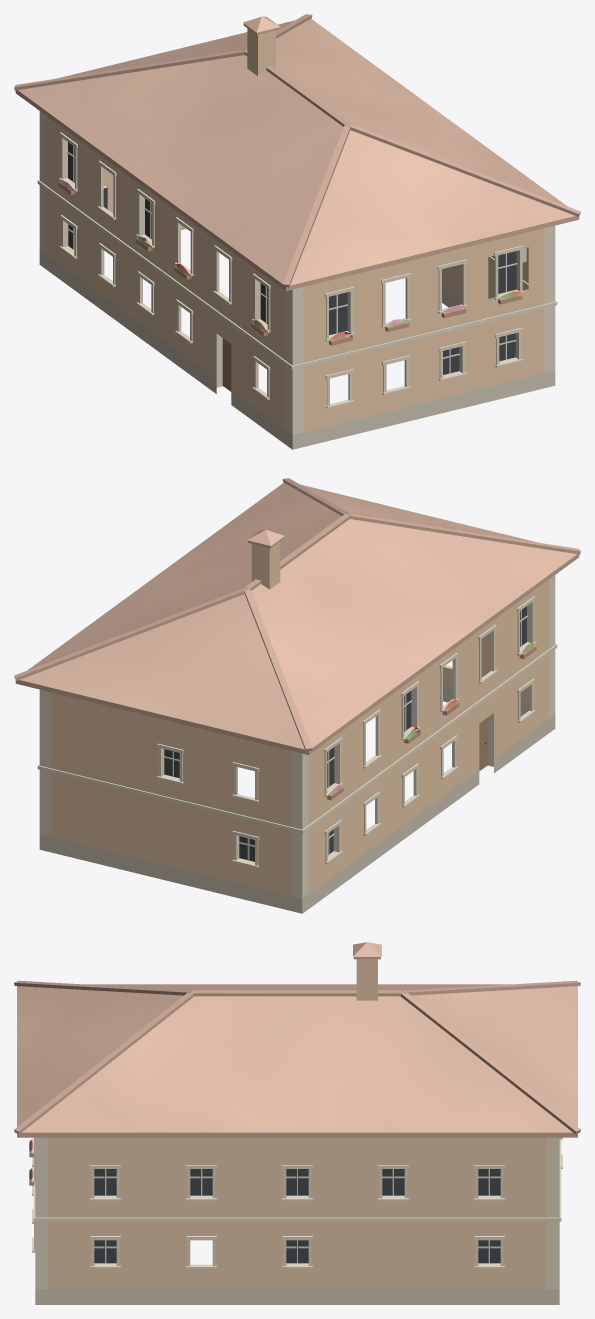
The model's file is SM_BM_BE_3_Villa.glb.
3 views of the same model, one above another, from view 1: azimuth 30°, elevation 25°; view 2: azimuth 150°, elevation 25°; view 3: azimuth 270°, elevation 25° (orthographic). The views are drawn at different scales.
Visible parts, largest first — view 1: SM_BM_BE_3_Villa; view 2: SM_BM_BE_3_Villa; view 3: SM_BM_BE_3_Villa.
Boxes of the visible parts, x1,y1,x2,y2 form: SM_BM_BE_3_Villa: (14, 14, 580, 449); SM_BM_BE_3_Villa: (14, 478, 580, 913); SM_BM_BE_3_Villa: (14, 942, 580, 1304).
Size of the model in its own units: 13.62 by 12.42 by 21.62.
